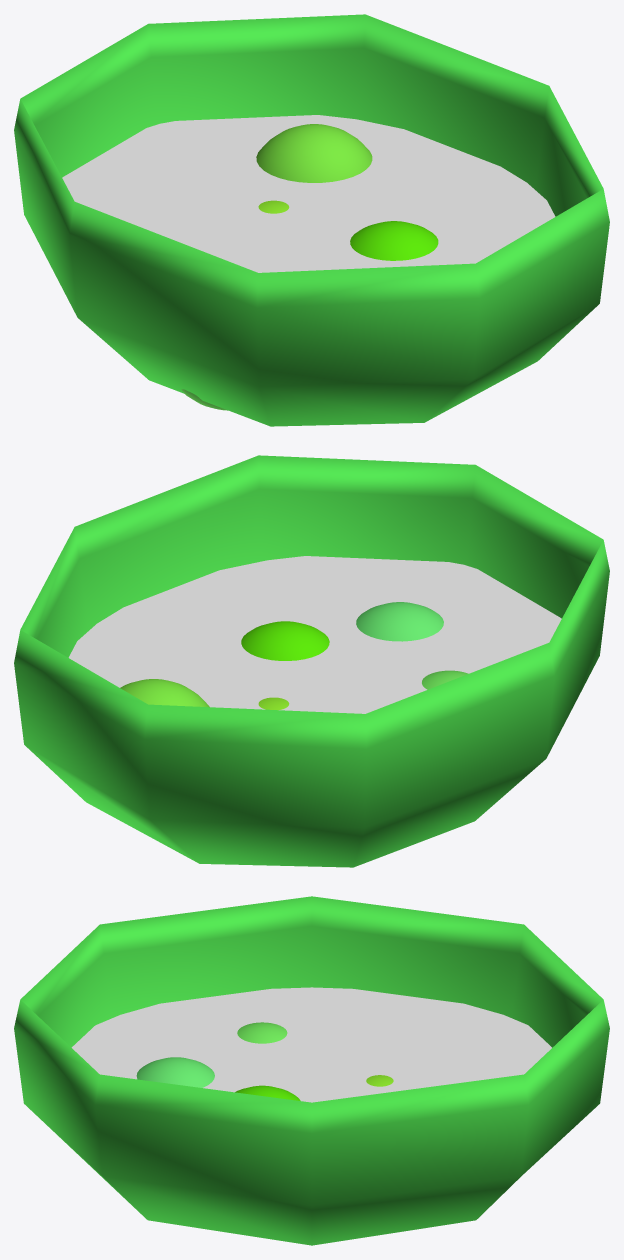
File: KUE BUGIS MANDI.fbx
The picture shows the model from 3 angles, top to bottom: view 1: azimuth 30°, elevation 25°; view 2: azimuth 150°, elevation 25°; view 3: azimuth 270°, elevation 25°; orthographic projection. The views are drawn at different scales.
Parts seen in each view (by area): view 1: Cube, Cylinder, Sphere.003, Sphere.002; view 2: Cube, Cylinder, Sphere.002, Sphere.004, Sphere.003; view 3: Cube, Cylinder, Sphere.004, Sphere.001, Sphere.002.
Boxes of the visible parts, x1=… form: Cube: x1=14, y1=14, x2=609, y2=426; Cylinder: x1=62, y1=115, x2=555, y2=272; Sphere.003: x1=256, y1=124, x2=372, y2=182; Sphere.002: x1=350, y1=221, x2=438, y2=260; Cube: x1=14, y1=455, x2=609, y2=867; Cylinder: x1=68, y1=556, x2=561, y2=713; Sphere.002: x1=241, y1=621, x2=329, y2=660; Sphere.004: x1=356, y1=602, x2=443, y2=641; Sphere.003: x1=120, y1=679, x2=209, y2=707; Cube: x1=14, y1=896, x2=609, y2=1245; Cylinder: x1=71, y1=987, x2=551, y2=1102; Sphere.004: x1=136, y1=1057, x2=214, y2=1087; Sphere.001: x1=237, y1=1022, x2=287, y2=1043; Sphere.002: x1=235, y1=1085, x2=300, y2=1100.
Bounding box in the file's own units: 273 × 122 × 326.
